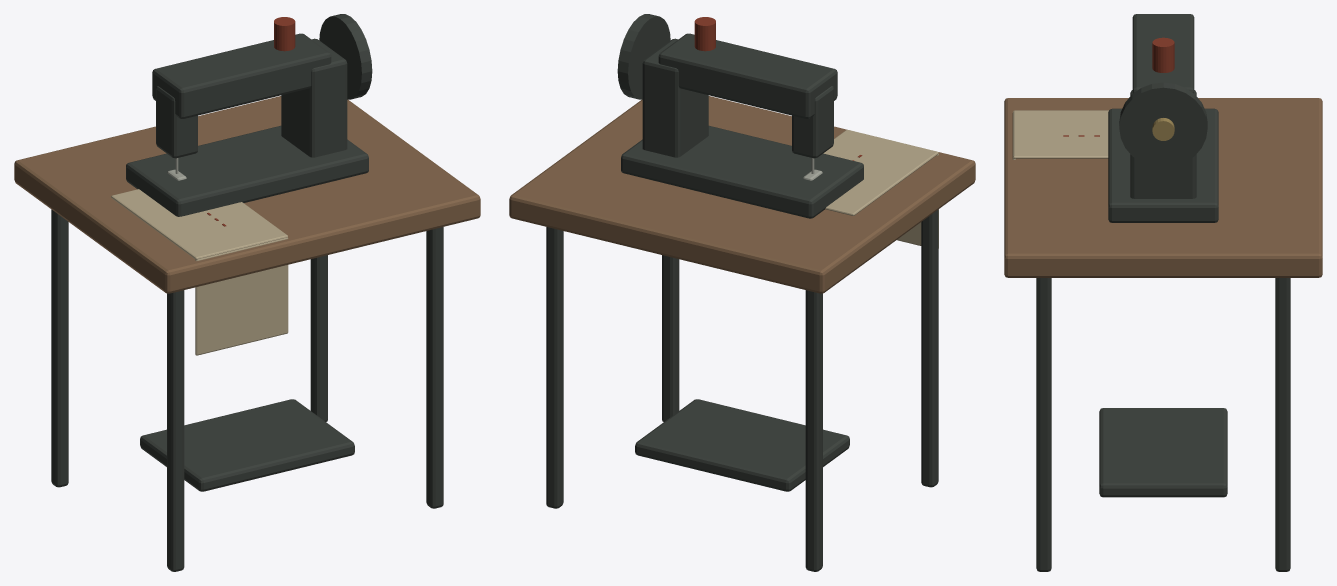
The model's file is sewing-station.fbx.
3 views of the same model, side by side, from view 1: azimuth 30°, elevation 25°; view 2: azimuth 150°, elevation 25°; view 3: azimuth 270°, elevation 25° (orthographic). The views are drawn at different scales.
Parts seen in each view (by area): view 1: Worktop, Machine bed, Treadle pedal, Overhanging arm, Hanging fabric, Fabric under needle, Upright arm, Stand leg, Stand leg.002, Stand leg.001, Stand leg.003, Hand wheel (+2 smaller); view 2: Worktop, Machine bed, Treadle pedal, Overhanging arm, Upright arm, Stand leg.001, Stand leg.003, Stand leg, Fabric under needle, Stand leg.002, Hand wheel, Needle housing (+1 smaller); view 3: Worktop, Treadle pedal, Machine bed, Hand wheel, Fabric under needle, Stand leg.002, Stand leg.003, Overhanging arm, Upright arm, Thread spool, Hand wheel hub.
Boxes of the visible parts, x1,y1,x2,y2 form: Worktop: (14, 96, 480, 293); Machine bed: (126, 125, 368, 216); Treadle pedal: (140, 399, 354, 491); Overhanging arm: (152, 33, 331, 118); Hanging fabric: (195, 237, 288, 355); Fabric under needle: (111, 189, 287, 259); Upright arm: (281, 38, 347, 157); Stand leg: (167, 290, 184, 571); Stand leg.002: (426, 227, 443, 508); Stand leg.001: (51, 209, 68, 487); Stand leg.003: (310, 255, 327, 421); Hand wheel: (319, 14, 372, 99); Worktop: (509, 96, 975, 293); Machine bed: (621, 125, 863, 218); Treadle pedal: (635, 399, 849, 491); Overhanging arm: (658, 33, 837, 118); Upright arm: (642, 38, 708, 157); Stand leg.001: (805, 290, 822, 571); Stand leg.003: (546, 227, 563, 508); Stand leg: (921, 209, 938, 487); Fabric under needle: (823, 129, 938, 215); Stand leg.002: (662, 255, 679, 421); Hand wheel: (617, 14, 670, 99); Needle housing: (792, 86, 833, 158); Worktop: (1004, 98, 1322, 277); Treadle pedal: (1099, 408, 1227, 497); Machine bed: (1108, 108, 1218, 222); Hand wheel: (1119, 82, 1207, 167); Fabric under needle: (1013, 110, 1108, 158); Stand leg.002: (1036, 278, 1051, 571); Stand leg.003: (1275, 278, 1290, 571); Overhanging arm: (1132, 14, 1194, 93); Upright arm: (1130, 90, 1196, 198); Thread spool: (1152, 37, 1174, 72); Hand wheel hub: (1152, 118, 1174, 140).
Size of the model in its own units: 0.85 by 1.2 by 0.72.
